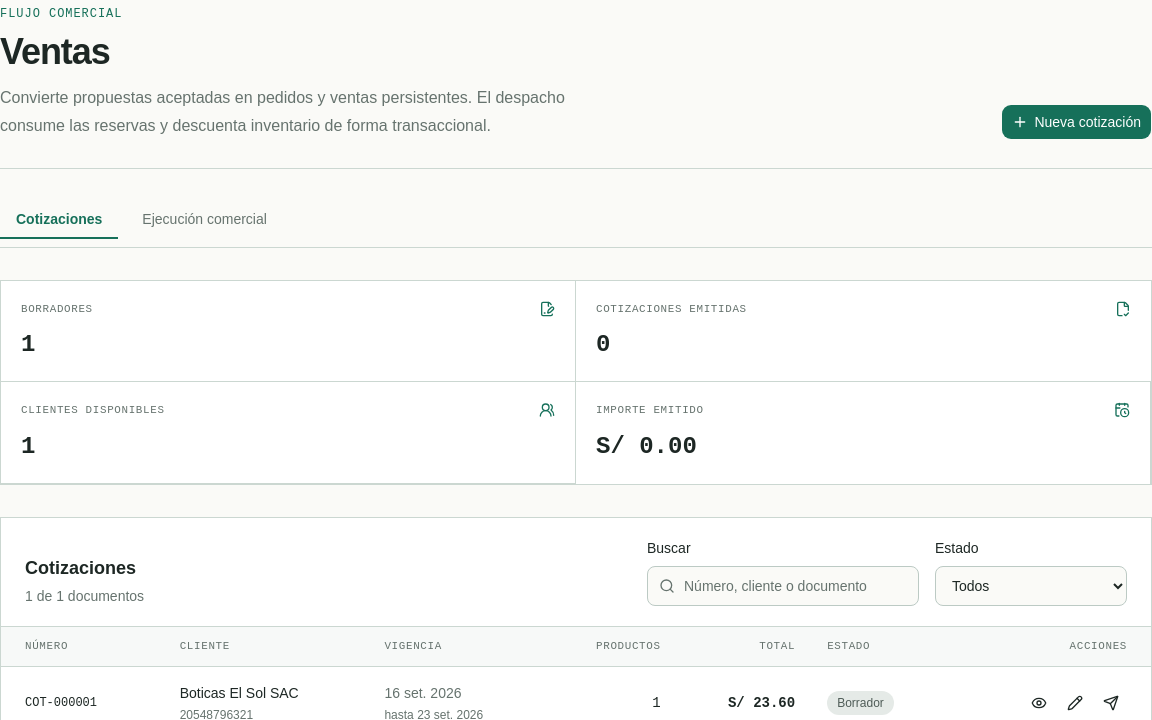
VentasPage › muestra en la página el motivo cuando la emisión es rechazada
Click the button named "Emitir COT-000001".
click(1111, 703)  # box [1095,687,1127,719]
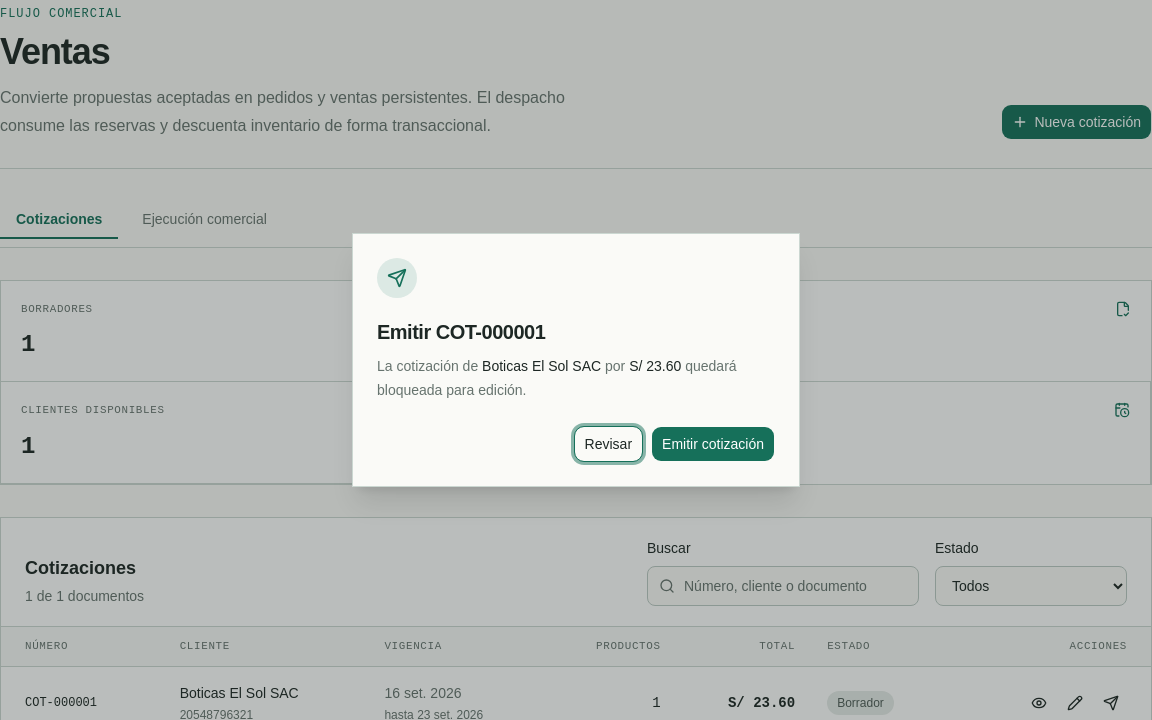
Click the button "Emitir cotización".
click(713, 444)  # box [651,426,775,462]
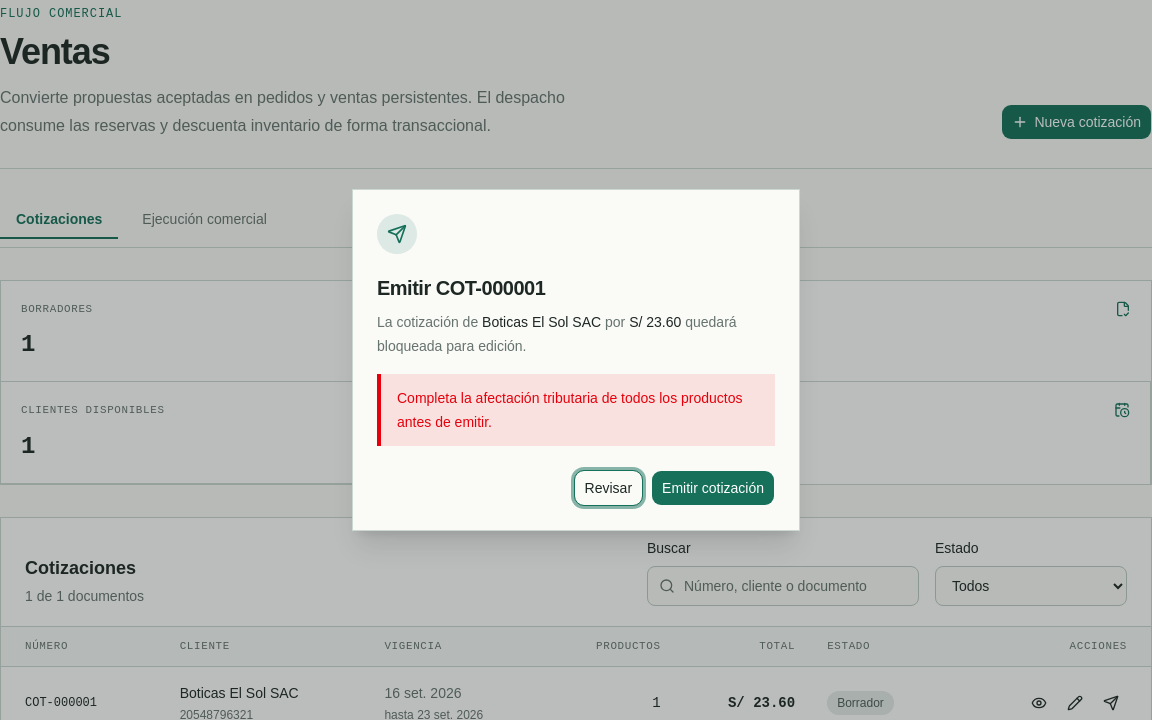
Check: the message reads "Completa la afectación tributaria de todos los productos antes de emitir.", box [397,390,742,430]
